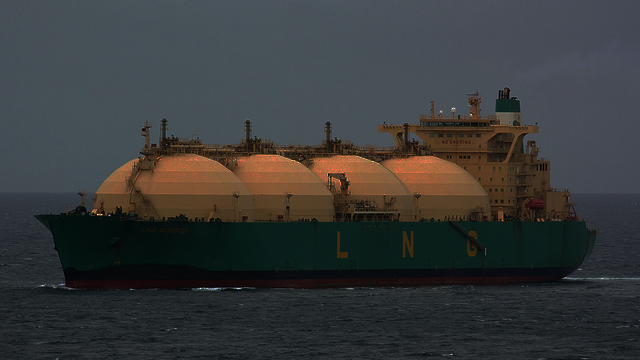LNG_ship: (36, 82, 598, 282)
